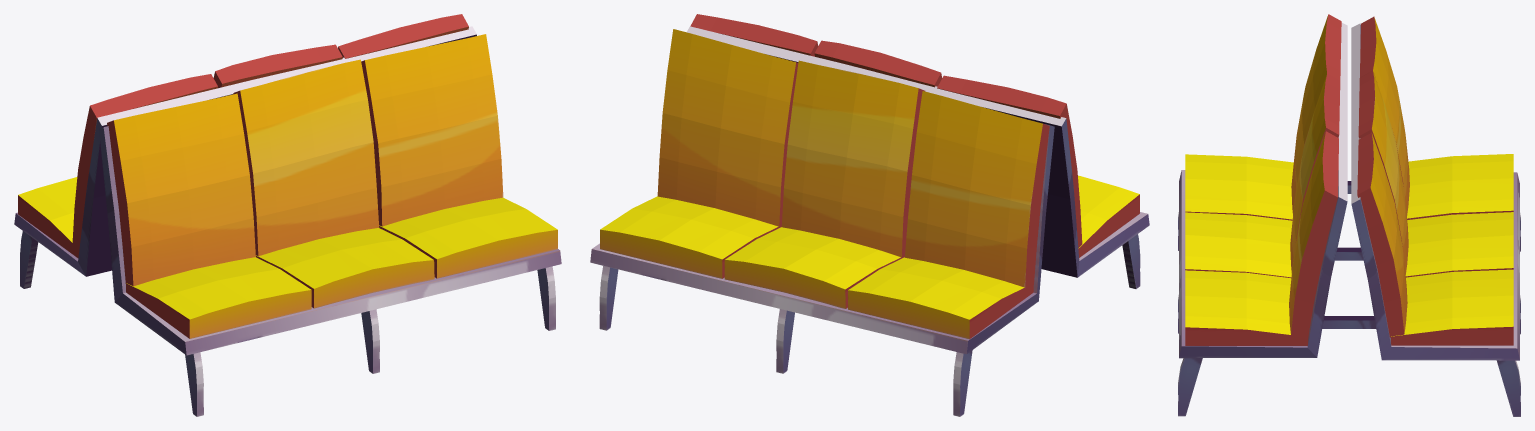
The model's file is Sillas.fbx.
3 renders of one model, left to right at view 1: azimuth 30°, elevation 25°; view 2: azimuth 150°, elevation 25°; view 3: azimuth 270°, elevation 25°, orthographic. The views are drawn at different scales.
Visible parts, largest first — view 1: Cube.026; view 2: Cube.026; view 3: Cube.026.
Boxes of the visible parts, x1,y1,x2,y2 form: Cube.026: (14,14,561,416); Cube.026: (590,14,1149,416); Cube.026: (1178,14,1520,416).
Bounding box in the file's own units: 84.26 × 51.61 × 68.43.
Materials: 1 (1 with a texture image).
